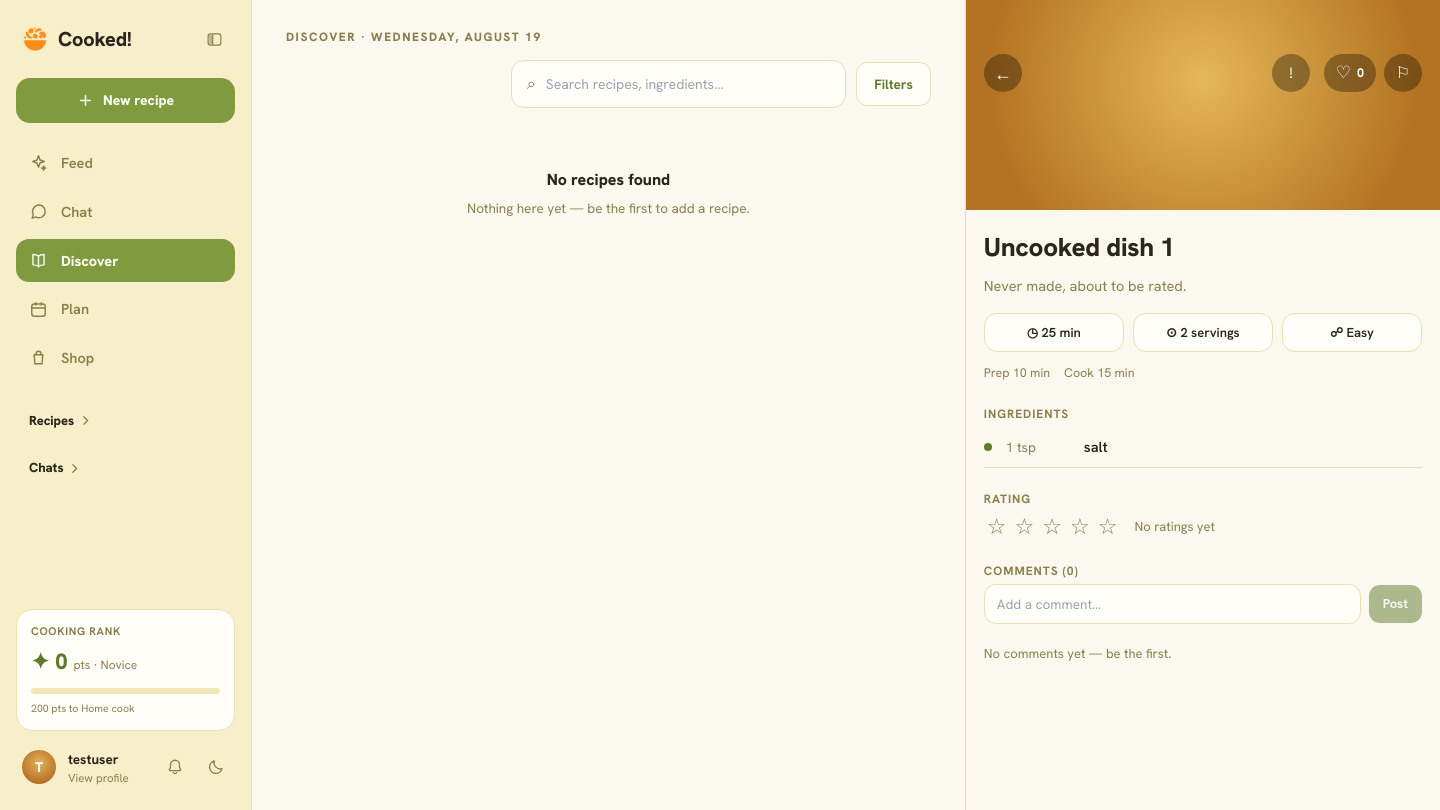
Test case: rating a recipe with no cook behind it › asks for the cook, with Today as the primary action
Expected: the text "No ratings yet" is shown, [1134,517,1215,536]
Click the button named "Rate 4 out of 5". click: (1080, 527)
box: [1067,514,1093,540]
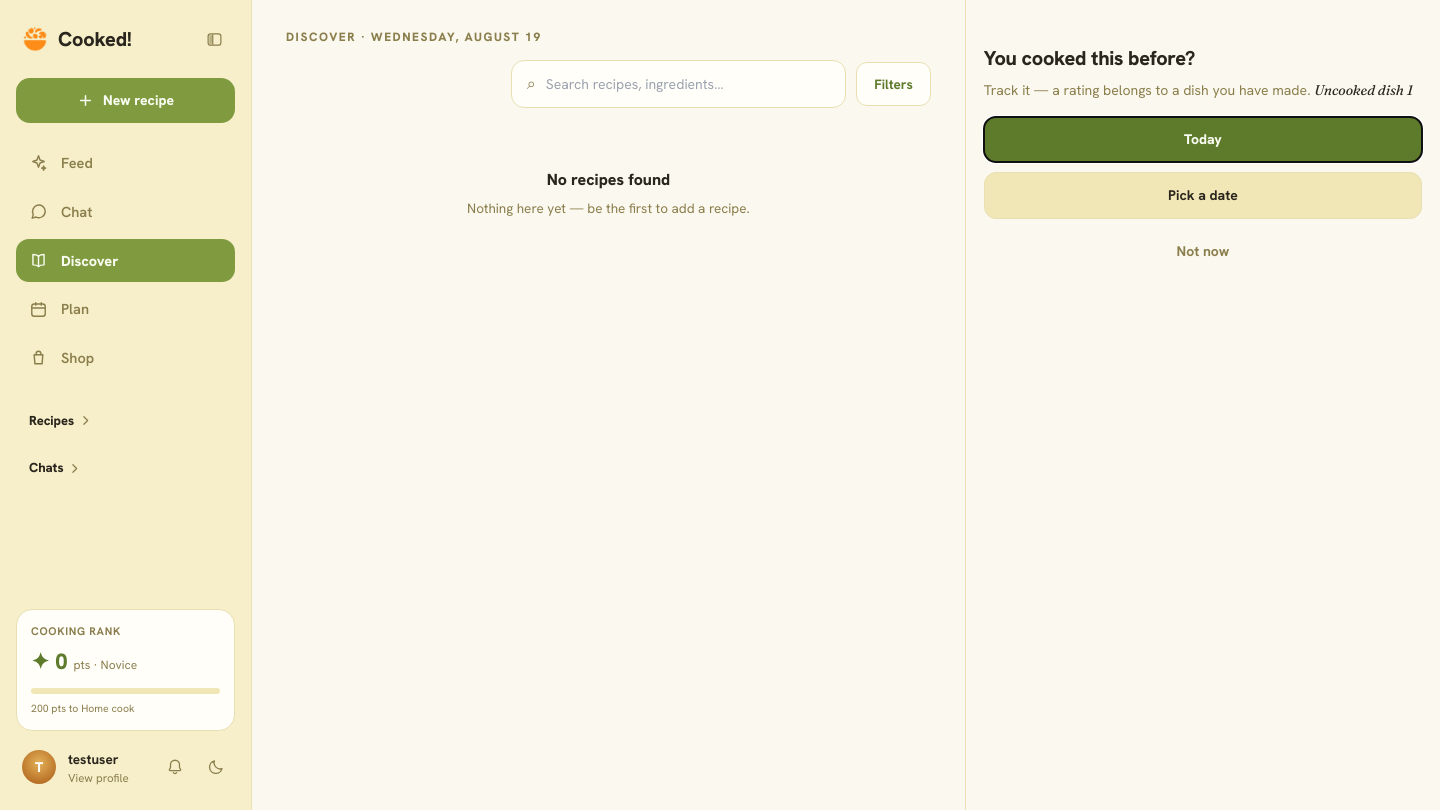
Expected: the heading "You cooked this before?" is shown, [984,45,1195,71]
Expected: the button "Today" is shown, [984,117,1422,162]
Expected: the button "Pick a date" is shown, [984,172,1422,219]
